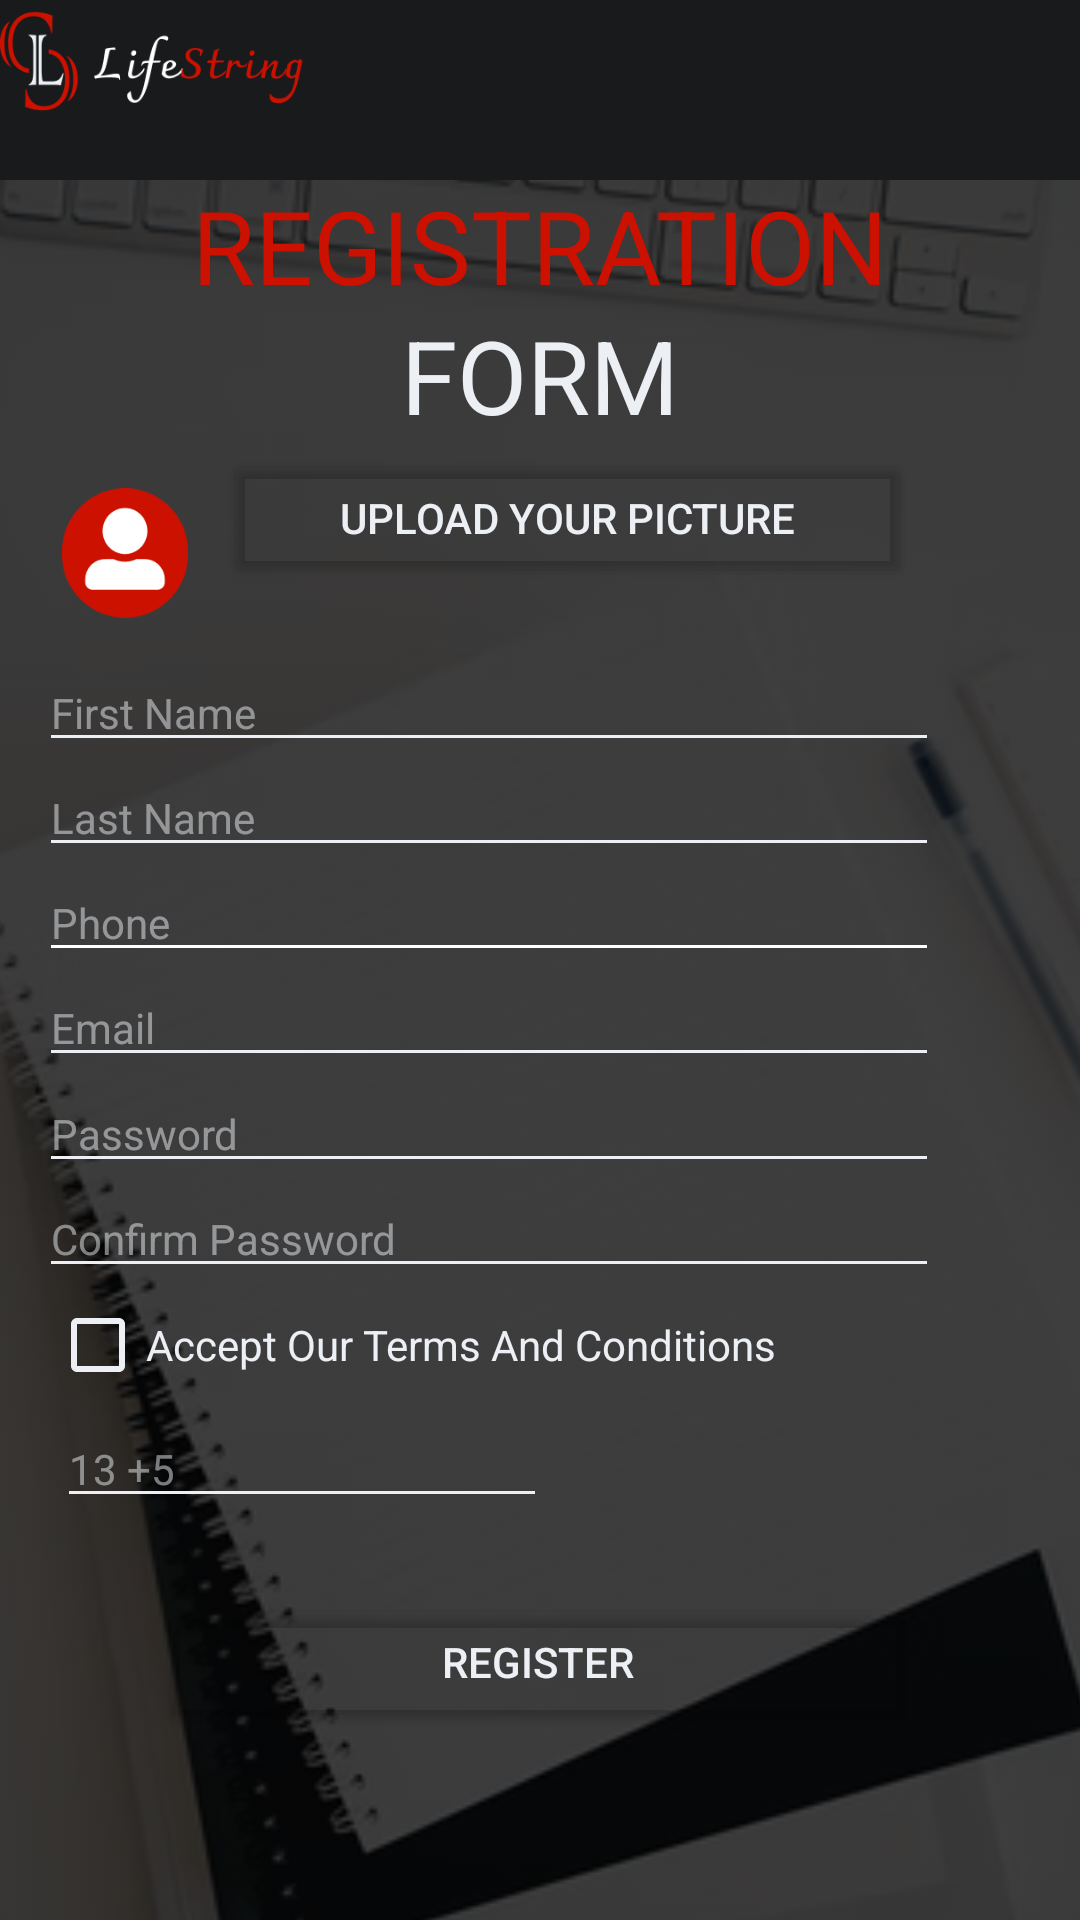

Named icons in this screenshot (1080x1920) and their bounding boxes, (x1, y1, x2, y2):
userprofile: (62, 488, 188, 618)
